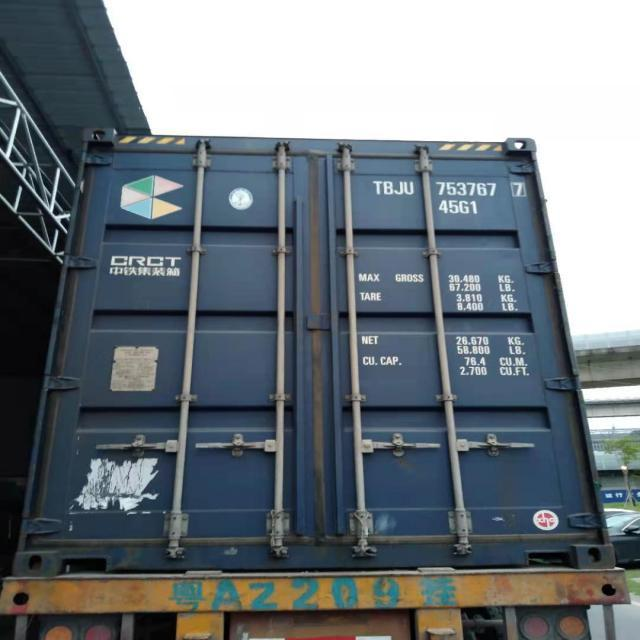ISO: (438, 201, 480, 217)
container_number: (4, 616, 170, 640), (376, 180, 526, 198)
